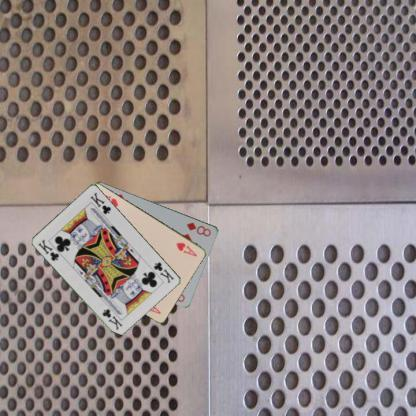8d: (184, 219, 213, 238)
Ah: (174, 240, 198, 258)
Kc: (151, 259, 176, 285), (36, 237, 61, 262)
